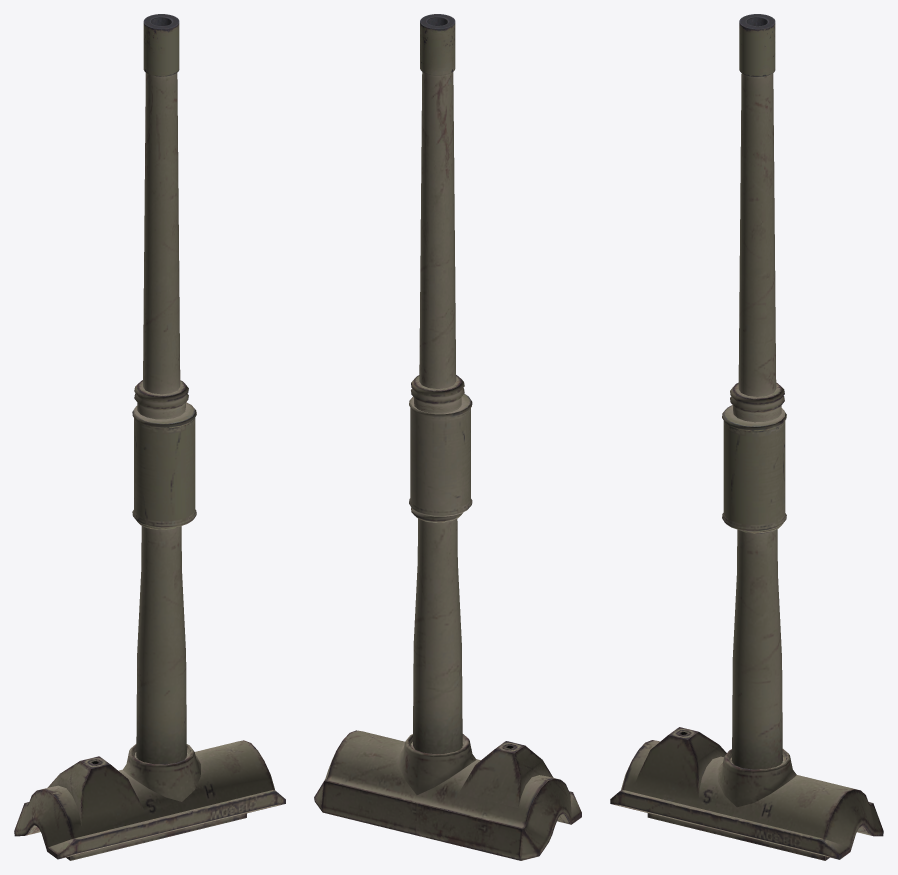
Rendered from Gun_05.glb.
3 views of the same model, side by side, from view 1: azimuth 30°, elevation 25°; view 2: azimuth 150°, elevation 25°; view 3: azimuth 330°, elevation 25° (orthographic). The views are drawn at different scales.
Parts seen in each view (by area): view 1: set_0_group_0; view 2: set_0_group_0; view 3: set_0_group_0.
Part boxes in pixels (x1,y1,x2,y2): set_0_group_0: (14, 14, 285, 860); set_0_group_0: (314, 14, 581, 860); set_0_group_0: (610, 14, 883, 860).
Bounding box in the file's own units: 1.33 × 4.52 × 0.5453.
Materials: 1 (1 with a texture image).
